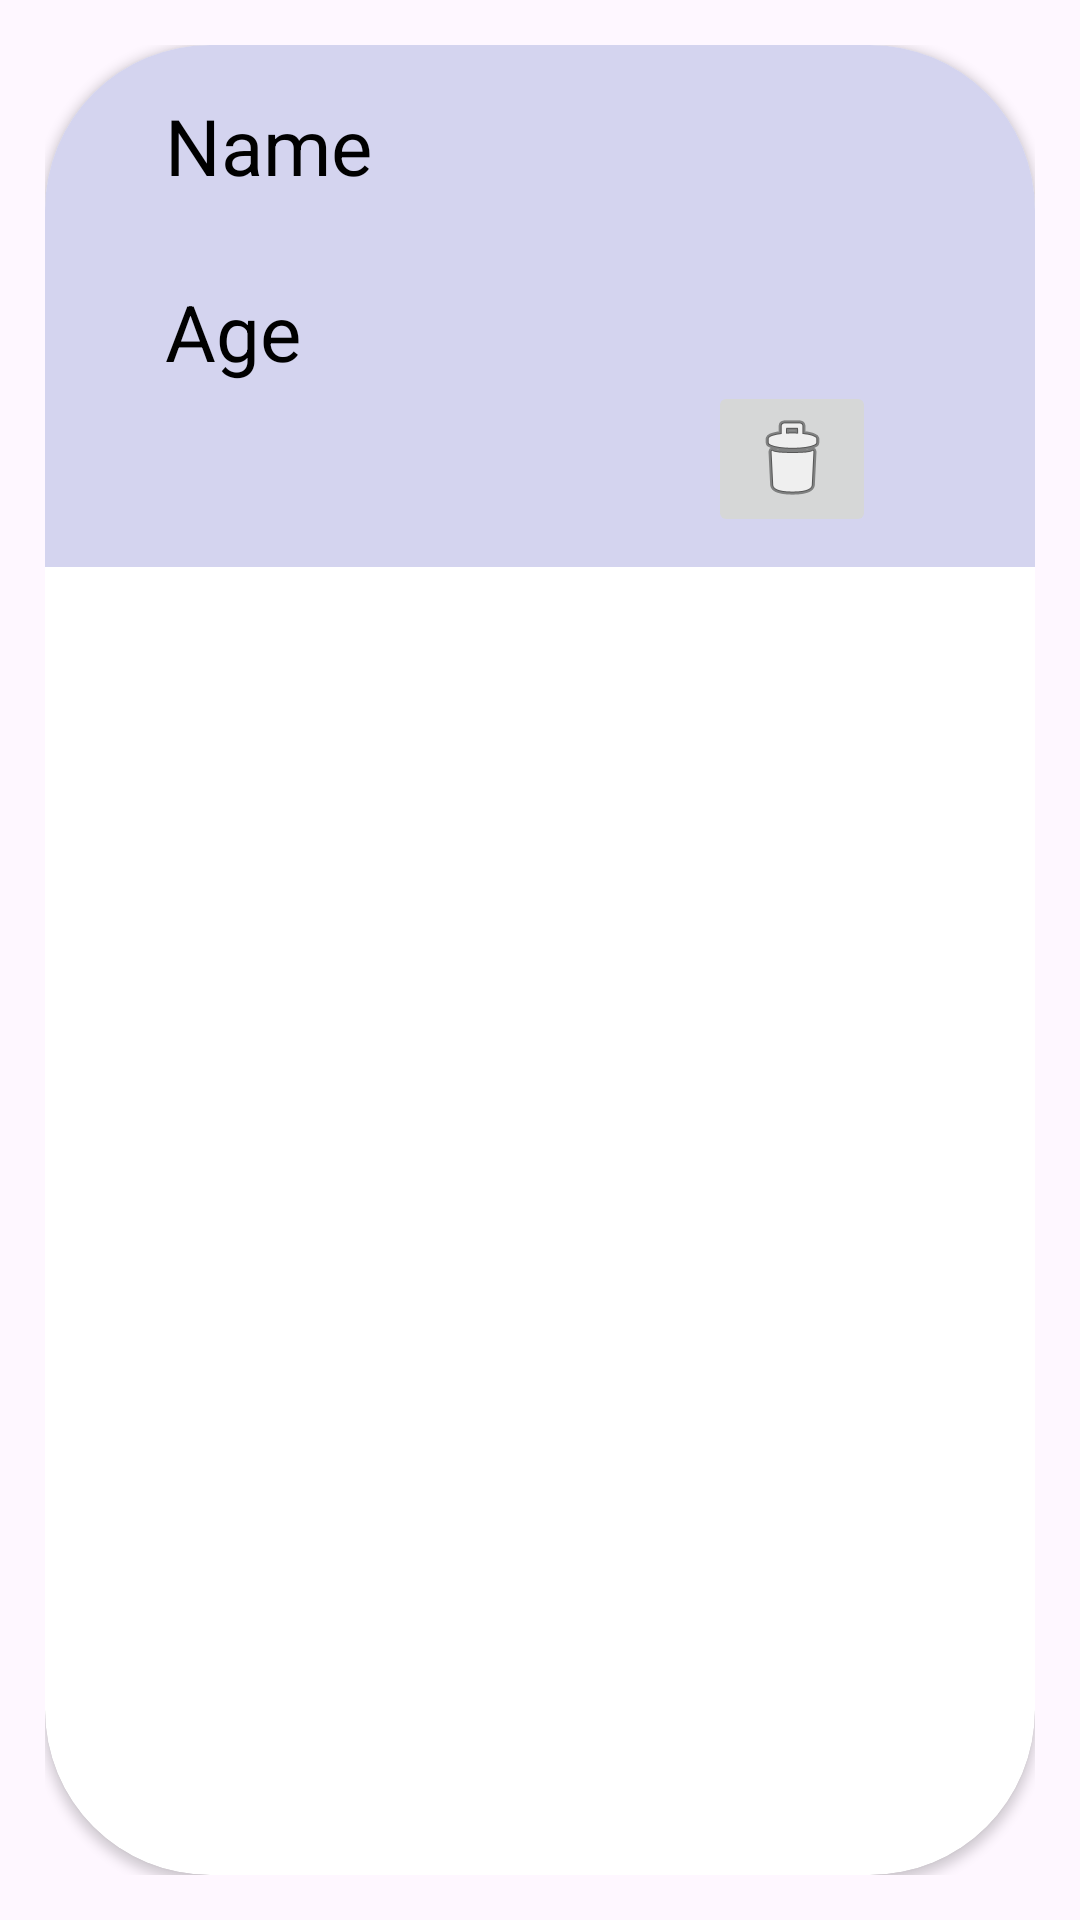

Screen size 1080×1920. Icon name, then its box in pixels as rect(x1, y1, x2, y2):
delete: rect(765, 420, 820, 495)
